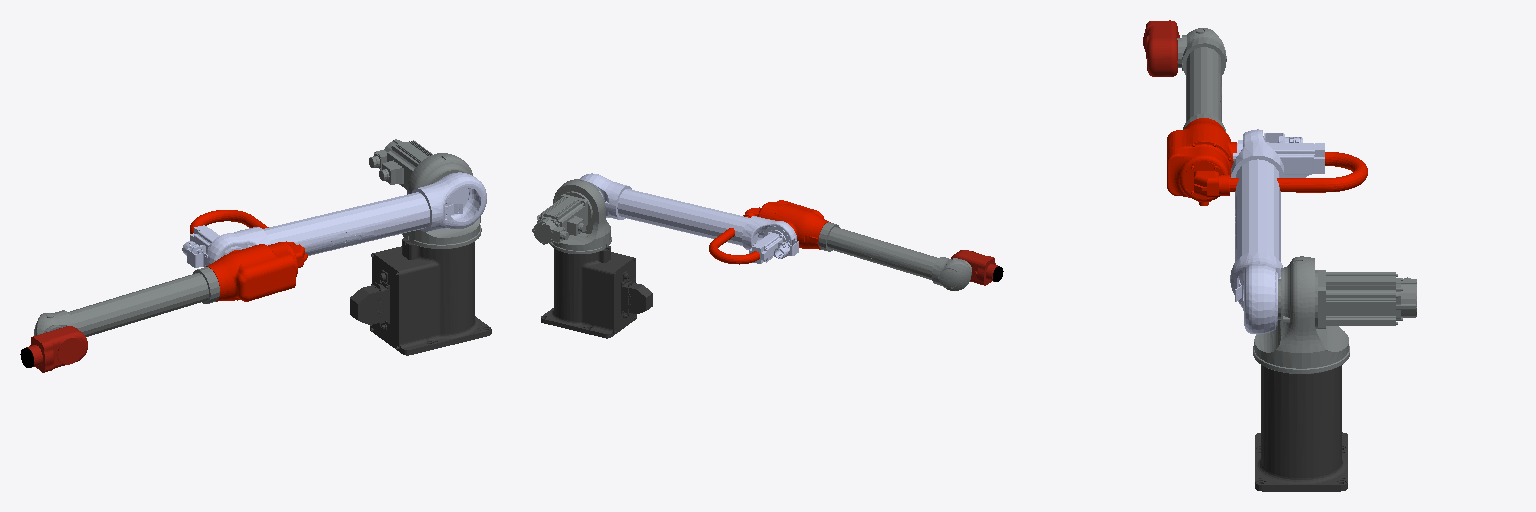
robot.urdf — HSR-BR610-1300-URDF:
<?xml version="1.0" encoding="utf-8"?>
<!-- This URDF was automatically created by SolidWorks to URDF Exporter! Originally created by Stephen Brawner (brawner@gmail.com) 
     Commit Version: 1.6.0-4-g7f85cfe  Build Version: 1.6.7995.38578
     For more information, please see http://wiki.ros.org/sw_urdf_exporter -->
<robot
  name="HSR-BR610-1300-URDF">
  <link
    name="base_link">
    <inertial>
      <origin
        xyz="-0.00947525692440264 -2.09394986025804E-07 0.130870576816009"
        rpy="0 0 0" />
      <mass
        value="11.3648443242494" />
      <inertia
        ixx="0.0941610098443713"
        ixy="2.86107374747175E-06"
        ixz="-0.00563813071143465"
        iyy="0.125919418577362"
        iyz="-2.5991989939449E-09"
        izz="0.0788237378414868" />
    </inertial>
    <visual>
      <origin
        xyz="0 0 0"
        rpy="0 0 0" />
      <geometry>
        <mesh
          filename="package://HSR-BR610-1300-URDF/meshes/base_link.STL" />
      </geometry>
      <material
        name="">
        <color
          rgba="0.294117647058824 0.294117647058824 0.294117647058824 1" />
      </material>
    </visual>
    <collision>
      <origin
        xyz="0 0 0"
        rpy="0 0 0" />
      <geometry>
        <mesh
          filename="package://HSR-BR610-1300-URDF/meshes/base_link.STL" />
      </geometry>
    </collision>
  </link>
  <link
    name="J1">
    <inertial>
      <origin
        xyz="-0.00170707525087675 0.0454046589538665 0.0989929087377179"
        rpy="0 0 0" />
      <mass
        value="5.7592246311655" />
      <inertia
        ixx="0.0575951663806666"
        ixy="0.00134872849814164"
        ixz="0.000398242207826708"
        iyy="0.031239131871014"
        iyz="-0.00906366083539025"
        izz="0.0503094164574005" />
    </inertial>
    <visual>
      <origin
        xyz="0 0 0"
        rpy="0 0 0" />
      <geometry>
        <mesh
          filename="package://HSR-BR610-1300-URDF/meshes/J1.STL" />
      </geometry>
      <material
        name="">
        <color
          rgba="0.529411764705882 0.549019607843137 0.549019607843137 1" />
      </material>
    </visual>
    <collision>
      <origin
        xyz="0 0 0"
        rpy="0 0 0" />
      <geometry>
        <mesh
          filename="package://HSR-BR610-1300-URDF/meshes/J1.STL" />
      </geometry>
    </collision>
  </link>
  <joint
    name="J1"
    type="revolute">
    <origin
      xyz="0.0375000000000001 0 0.283"
      rpy="0 0 0" />
    <parent
      link="base_link" />
    <child
      link="J1" />
    <axis
      xyz="0 0 1" />
    <limit
      lower="-2.7"
      upper="2.7"
      effort="110"
      velocity="6.2" />
  </joint>
  <link
    name="J2">
    <inertial>
      <origin
        xyz="-9.27217139910561E-05 -0.396205929499673 -0.0435575868135679"
        rpy="0 0 0" />
      <mass
        value="6.59511173340128" />
      <inertia
        ixx="0.386668388154667"
        ixy="-0.000197955602163447"
        ixz="4.50801235554724E-05"
        iyy="0.0129682532637911"
        iyz="0.00658602686747754"
        izz="0.384843238184406" />
    </inertial>
    <visual>
      <origin
        xyz="0 0 0"
        rpy="0 0 0" />
      <geometry>
        <mesh
          filename="package://HSR-BR610-1300-URDF/meshes/J2.STL" />
      </geometry>
      <material
        name="">
        <color
          rgba="0.792156862745098 0.819607843137255 0.933333333333333 1" />
      </material>
    </visual>
    <collision>
      <origin
        xyz="0 0 0"
        rpy="0 0 0" />
      <geometry>
        <mesh
          filename="package://HSR-BR610-1300-URDF/meshes/J2.STL" />
      </geometry>
    </collision>
  </link>
  <joint
    name="J2"
    type="revolute">
    <origin
      xyz="0 -0.0475 0.133"
      rpy="-1.5707963267949 0 0" />
    <parent
      link="J1" />
    <child
      link="J2" />
    <axis
      xyz="0 0 1" />
    <limit
      lower="-3.1"
      upper="-0.03"
      effort="110"
      velocity="4.3" />
  </joint>
  <link
    name="J3">
    <inertial>
      <origin
        xyz="0.000151615811517347 -0.0150645626724696 -0.0766102998276781"
        rpy="0 0 0" />
      <mass
        value="3.47855787129341" />
      <inertia
        ixx="0.0116544037035361"
        ixy="8.35116148186979E-06"
        ixz="8.63881231505841E-07"
        iyy="0.00845553176433113"
        iyz="-0.000435559054150244"
        izz="0.00918508747854132" />
    </inertial>
    <visual>
      <origin
        xyz="0 0 0"
        rpy="0 0 0" />
      <geometry>
        <mesh
          filename="package://HSR-BR610-1300-URDF/meshes/J3.STL" />
      </geometry>
      <material
        name="">
        <color
          rgba="0.874509803921569 0.149019607843137 0 1" />
      </material>
    </visual>
    <collision>
      <origin
        xyz="0 0 0"
        rpy="0 0 0" />
      <geometry>
        <mesh
          filename="package://HSR-BR610-1300-URDF/meshes/J3.STL" />
      </geometry>
    </collision>
  </link>
  <joint
    name="J3"
    type="revolute">
    <origin
      xyz="0 -0.725999999928 -0.089"
      rpy="0 0 -1.57079631301457" />
    <parent
      link="J2" />
    <child
      link="J3" />
    <axis
      xyz="0 0 1" />
    <limit
      lower="2"
      upper="7.3"
      effort="55"
      velocity="6.2" />
  </joint>
  <link
    name="J4">
    <inertial>
      <origin
        xyz="-1.7039178900502E-05 -0.00179102086497937 0.286182837282368"
        rpy="0 0 0" />
      <mass
        value="3.12272451477868" />
      <inertia
        ixx="0.0894635500615884"
        ixy="-3.88791373365497E-07"
        ixz="1.21653667197239E-05"
        iyy="0.0894184137187965"
        iyz="0.00130984243738461"
        izz="0.00305547347391326" />
    </inertial>
    <visual>
      <origin
        xyz="0 0 0"
        rpy="0 0 0" />
      <geometry>
        <mesh
          filename="package://HSR-BR610-1300-URDF/meshes/J4.STL" />
      </geometry>
      <material
        name="">
        <color
          rgba="0.529411764705882 0.549019607843137 0.549019607843137 1" />
      </material>
    </visual>
    <collision>
      <origin
        xyz="0 0 0"
        rpy="0 0 0" />
      <geometry>
        <mesh
          filename="package://HSR-BR610-1300-URDF/meshes/J4.STL" />
      </geometry>
    </collision>
  </link>
  <joint
    name="J4"
    type="revolute">
    <origin
      xyz="0 0.122 -0.079"
      rpy="1.5707963267949 0 3.14159263980947" />
    <parent
      link="J3" />
    <child
      link="J4" />
    <axis
      xyz="0 0 1" />
    <limit
      lower="-3.3"
      upper="3.3"
      effort="20.4"
      velocity="8.3" />
  </joint>
  <link
    name="J5">
    <inertial>
      <origin
        xyz="-0.000256817518454744 -0.022426558547908 -0.0286496891644227"
        rpy="0 0 0" />
      <mass
        value="0.872957259280263" />
      <inertia
        ixx="0.0020195438874612"
        ixy="4.96790439628776E-07"
        ixz="1.76565321108469E-06"
        iyy="0.000812183602825857"
        iyz="-1.51619730994868E-05"
        izz="0.00220613118035737" />
    </inertial>
    <visual>
      <origin
        xyz="0 0 0"
        rpy="0 0 0" />
      <geometry>
        <mesh
          filename="package://HSR-BR610-1300-URDF/meshes/J5.STL" />
      </geometry>
      <material
        name="">
        <color
          rgba="0.650980392156863 0.16078431372549 0.109803921568627 1" />
      </material>
    </visual>
    <collision>
      <origin
        xyz="0 0 0"
        rpy="0 0 0" />
      <geometry>
        <mesh
          filename="package://HSR-BR610-1300-URDF/meshes/J5.STL" />
      </geometry>
    </collision>
  </link>
  <joint
    name="J5"
    type="revolute">
    <origin
      xyz="-0.00060399 -0.063997 0.5085"
      rpy="-1.5708 0 0" />
    <parent
      link="J4" />
    <child
      link="J5" />
    <axis
      xyz="0.0094374 0 0.99996" />
    <limit
      lower="-2.8"
      upper="2.8"
      effort="20.4"
      velocity="6.2" />
  </joint>
  <link
    name="J6">
    <inertial>
      <origin
        xyz="-0.00576494855732945 1.33945984875927E-06 0.000115306652561653"
        rpy="0 0 0" />
      <mass
        value="0.0270769176758824" />
      <inertia
        ixx="1.01791524117559E-05"
        ixy="5.87106324215357E-11"
        ixz="-6.22077349599095E-09"
        iyy="5.33725017105806E-06"
        iyz="-1.88944281506334E-09"
        izz="5.53743109744358E-06" />
    </inertial>
    <visual>
      <origin
        xyz="0 0 0"
        rpy="0 0 0" />
      <geometry>
        <mesh
          filename="package://HSR-BR610-1300-URDF/meshes/J6.STL" />
      </geometry>
      <material
        name="">
        <color
          rgba="0 0 0 1" />
      </material>
    </visual>
    <collision>
      <origin
        xyz="0 0 0"
        rpy="0 0 0" />
      <geometry>
        <mesh
          filename="package://HSR-BR610-1300-URDF/meshes/J6.STL" />
      </geometry>
    </collision>
  </link>
  <joint
    name="J6"
    type="revolute">
    <origin
      xyz="-0.00027126 -0.11 -0.029501"
      rpy="1.5708 0 1.5708" />
    <parent
      link="J5" />
    <child
      link="J6" />
    <axis
      xyz="-1 0 0" />
    <limit
      lower="-6.2"
      upper="6.2"
      effort="12.7"
      velocity="7.8" />
  </joint>
</robot>

--- Facts derived from the render (not from the file) ---
The picture shows the robot from 3 angles, left to right: view 1: azimuth 30°, elevation 25°; view 2: azimuth 150°, elevation 25°; view 3: azimuth 270°, elevation 25°; orthographic projection.
Model HSR-BR610-1300-URDF with 7 links and 6 joints (6 revolute), rooted at base_link, posed all joints at 0 but 2 set to mid-range because 0 is outside their limits (J2 = -1.56, J3 = 4.65).
Links seen in each view (by area): view 1: base_link, J2, J4, J3, J1, J5; view 2: base_link, J2, J1, J4, J3, J5; view 3: J1, J2, base_link, J3, J4, J5.
Boxes of the visible links, x1,y1,x2,y2 form: base_link: (350,238,491,355); J2: (182,172,486,267); J4: (34,267,219,336); J3: (190,210,307,301); J1: (369,139,481,248); J5: (26,326,87,372); base_link: (541,246,652,338); J2: (580,173,798,263); J1: (532,179,611,253); J4: (818,222,971,290); J3: (709,200,830,264); J5: (951,250,997,285); J1: (1253,256,1416,373); J2: (1230,129,1324,334); base_link: (1255,365,1347,491); J3: (1167,118,1367,205); J4: (1177,28,1226,131); J5: (1143,20,1179,76).
Size in the robot's own frame: 1.59 by 0.6044 by 0.5155 metres.
Meshes: 7 distinct files referenced, 7 mesh visuals loaded (7 binary STL).
